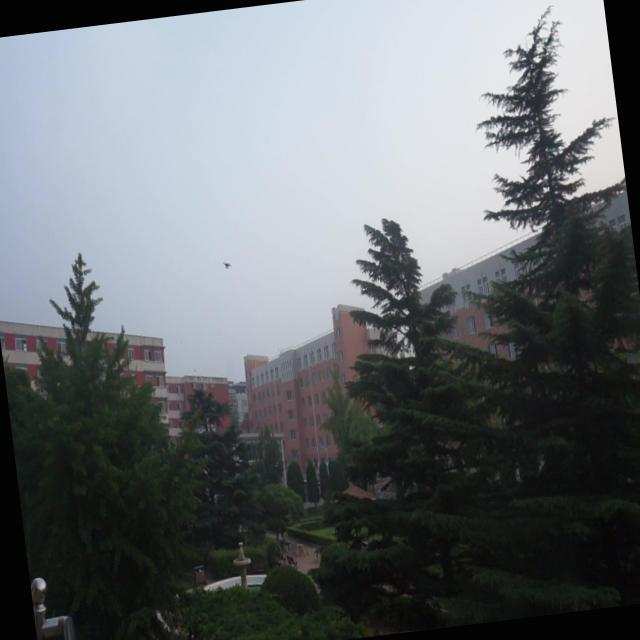drone: (221, 256, 234, 274)
